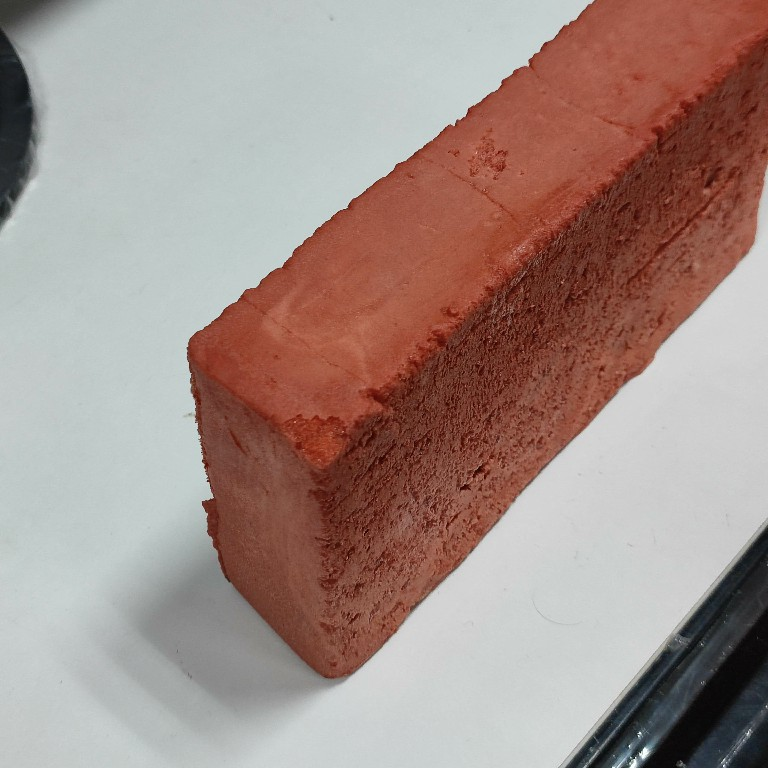brick: (182, 1, 768, 684)
